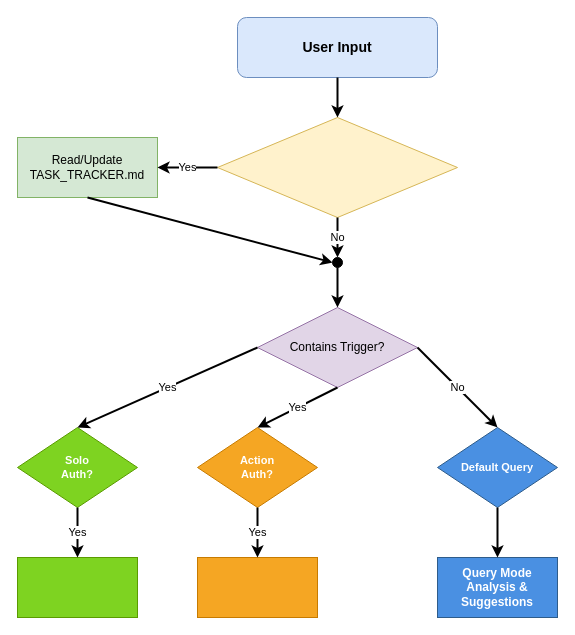
This 575x635 diagram has some shape labels left out. The centre of each missing label's shape, as x and y in pixels:
"Action Mode Execute Changes" belongs at point (257, 587).
"Detect Multi-task? (Keywords/Numbers/Commas)" belongs at point (337, 167).
"Solo Mode Long Running" belongs at point (77, 587).
